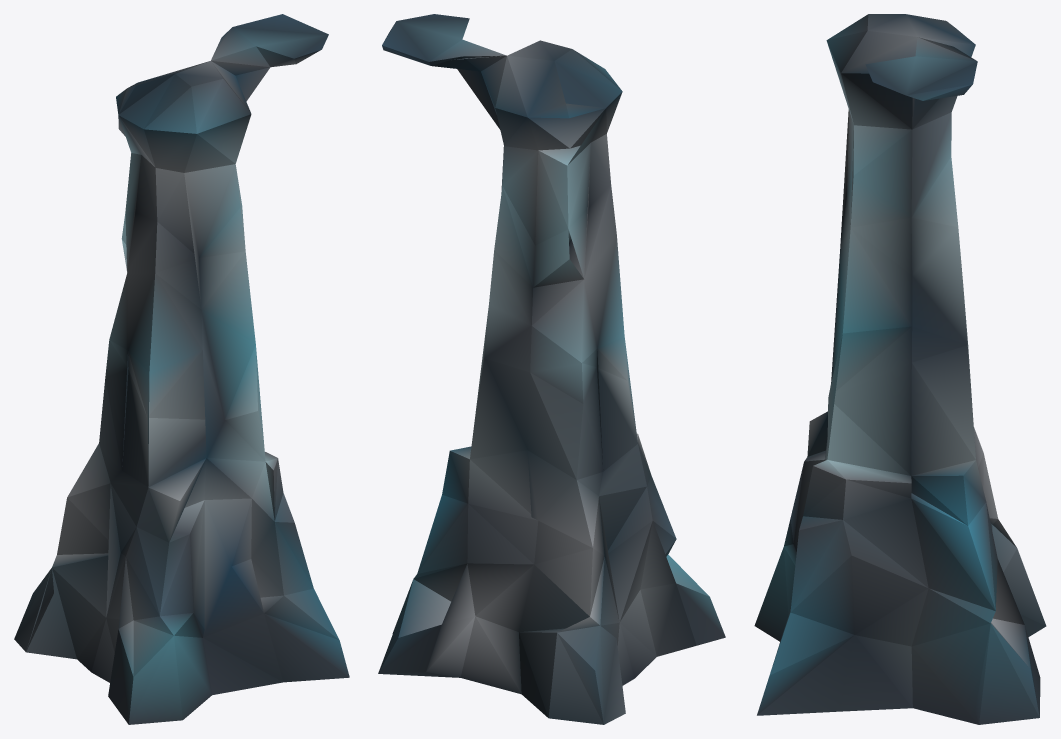
Rendered from scifi-tower.glb.
The picture shows the model from 3 angles, left to right: view 1: azimuth 30°, elevation 25°; view 2: azimuth 150°, elevation 25°; view 3: azimuth 270°, elevation 25°; orthographic projection. The views are drawn at different scales.
Visible parts, largest first — view 1: scifi-tower-far; view 2: scifi-tower-far; view 3: scifi-tower-far.
Part boxes in pixels (bbox=[...]): scifi-tower-far: bbox=[14, 14, 349, 724]; scifi-tower-far: bbox=[378, 14, 725, 724]; scifi-tower-far: bbox=[754, 14, 1046, 724].
Bounding box in the file's own units: 16.69 × 35.45 × 14.46.
